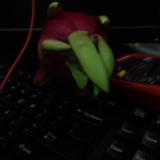pitaya: (40, 2, 115, 94)
